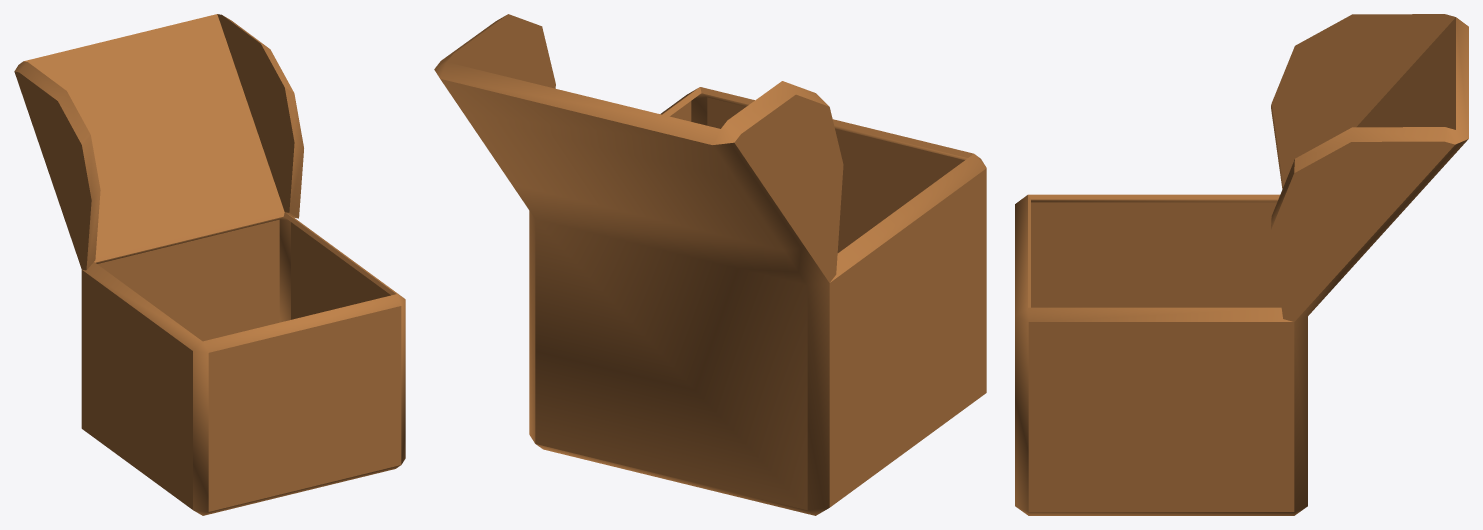
The picture shows the model from 3 angles, left to right: view 1: azimuth 30°, elevation 25°; view 2: azimuth 150°, elevation 25°; view 3: azimuth 270°, elevation 25°; orthographic projection. The views are drawn at different scales.
Parts seen in each view (by area): view 1: box2; view 2: box2; view 3: box2.
Part boxes in pixels (<box>): box2: <box>14,14,405,515</box>; box2: <box>434,14,986,515</box>; box2: <box>1015,14,1468,515</box>.
Bounding box in the file's own units: 208 × 306 × 323.
